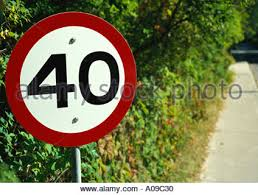Speed_limit_40km: (5, 13, 139, 149)
